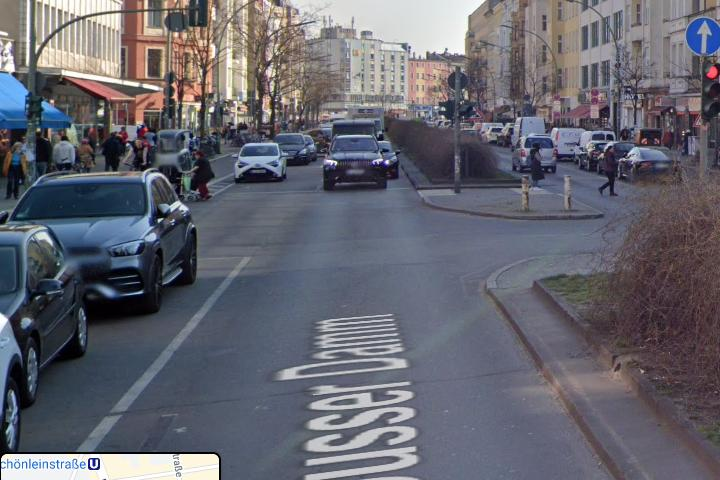traffic_sign: (685, 15, 719, 54), (692, 114, 706, 129)
vehicle: (1, 165, 202, 319), (320, 133, 390, 190), (612, 140, 688, 186), (231, 141, 289, 184), (509, 133, 559, 174), (270, 130, 316, 165)
